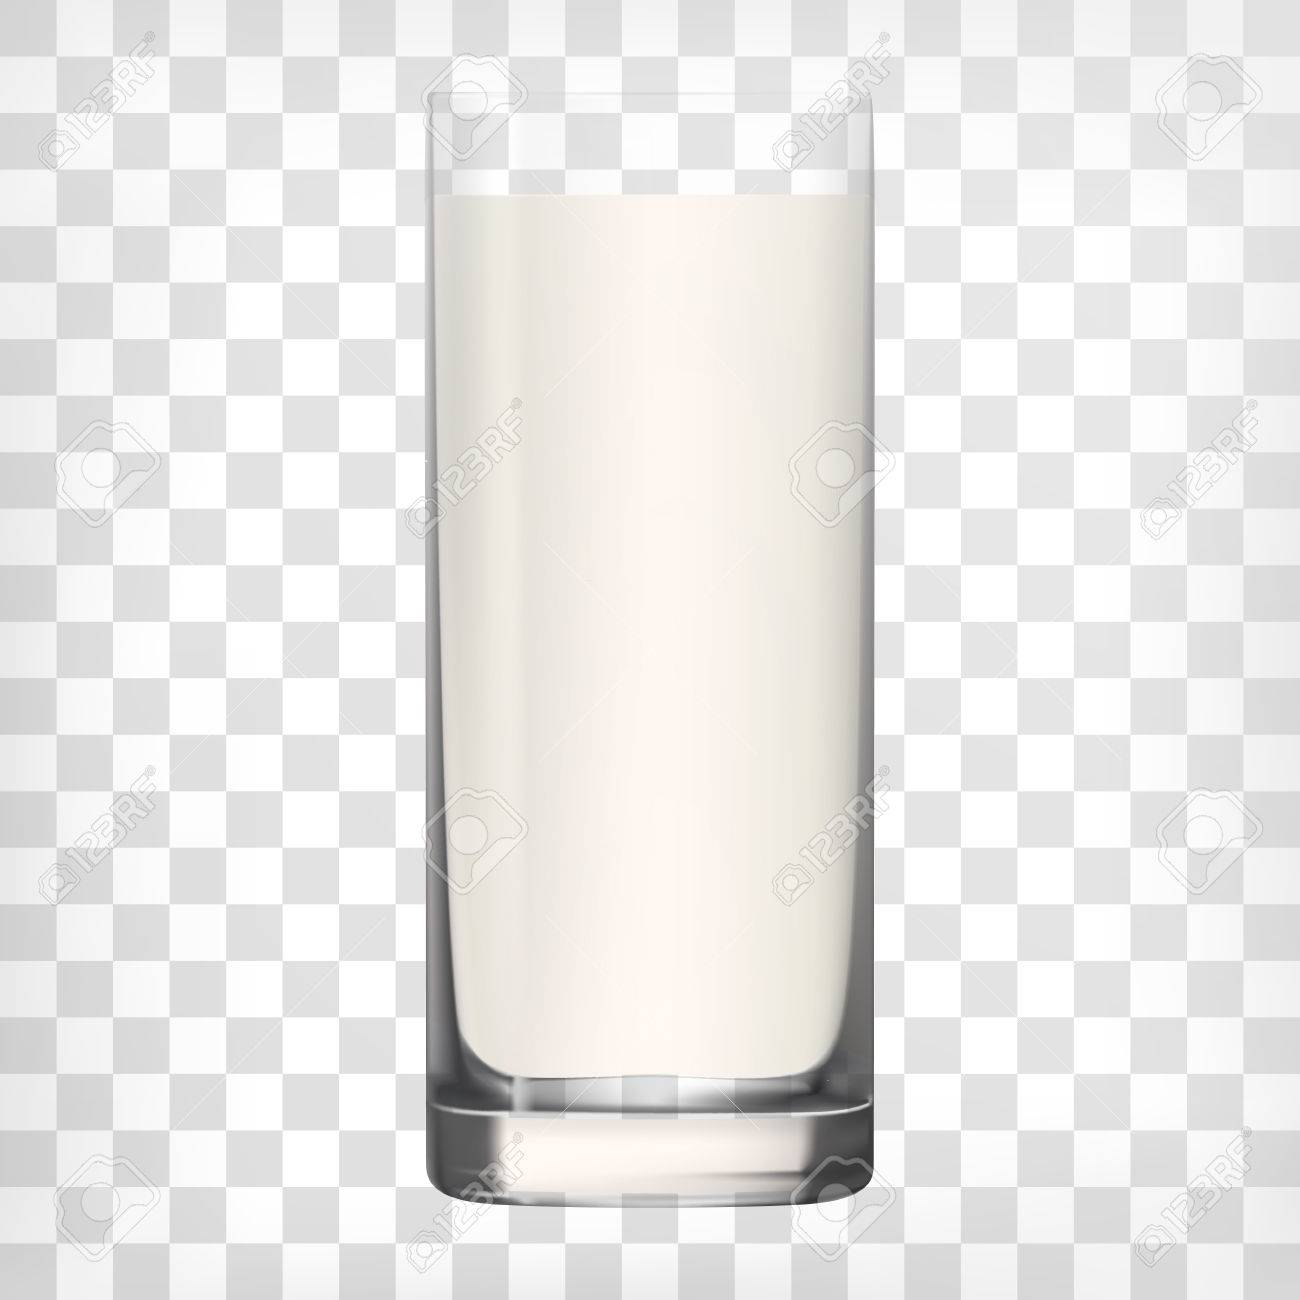glass of milk: (407, 69, 885, 1205)
